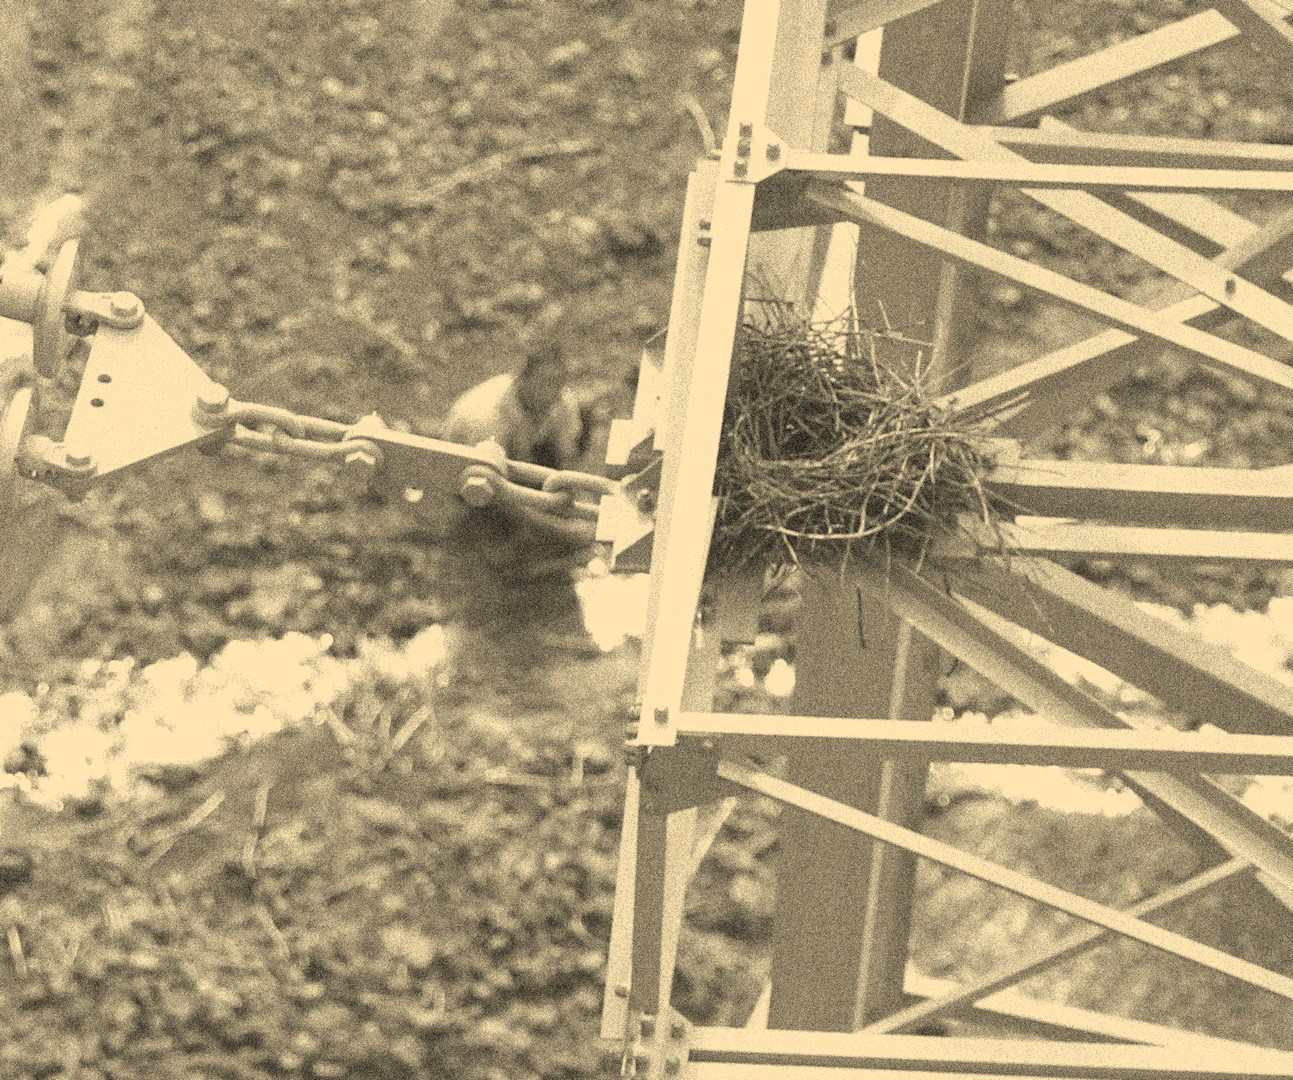niaowo: (651, 289, 996, 584)
